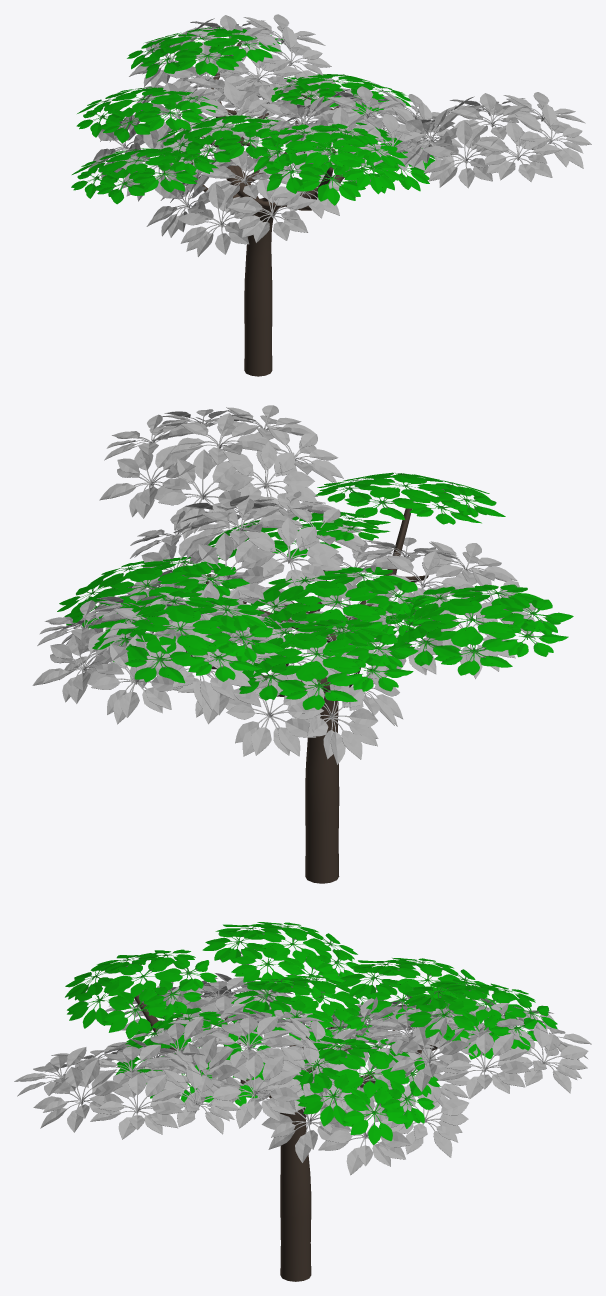
File: just work.fbx
The picture shows the model from 3 angles, top to bottom: view 1: azimuth 30°, elevation 25°; view 2: azimuth 150°, elevation 25°; view 3: azimuth 270°, elevation 25°; orthographic projection. The views are drawn at different scales.
Parts seen in each view (by area): view 1: pPlane34, pPlane23, pPlane24, pPlane21, pPlane25, pPlane22, pPlane26; view 2: pPlane34, pPlane23, pPlane25, pPlane21, pPlane22, pPlane24, pPlane26; view 3: pPlane34, pPlane23, pPlane25, pPlane21, pPlane26, pPlane24, pPlane22.
Part boxes in pixels (x1,y1,x2,y2): pPlane34: (71,27,435,376); pPlane23: (390,92,591,188); pPlane24: (146,149,341,256); pPlane21: (129,14,331,103); pPlane25: (269,86,463,171); pPlane22: (88,72,274,201); pPlane26: (224,78,408,152); pPlane34: (57,472,573,883); pPlane23: (99,405,343,539); pPlane25: (127,491,368,609); pPlane21: (32,590,266,724); pPlane22: (174,603,402,764); pPlane24: (309,537,540,678); pPlane26: (59,564,292,688); pPlane34: (65,922,557,1281); pPlane23: (14,1038,243,1139); pPlane25: (135,1005,357,1128); pPlane21: (366,998,591,1098); pPlane26: (243,1028,469,1175); pPlane24: (105,973,312,1046); pPlane22: (308,995,511,1056).
Bounding box in the file's own units: 33.99 × 18.96 × 32.39.
